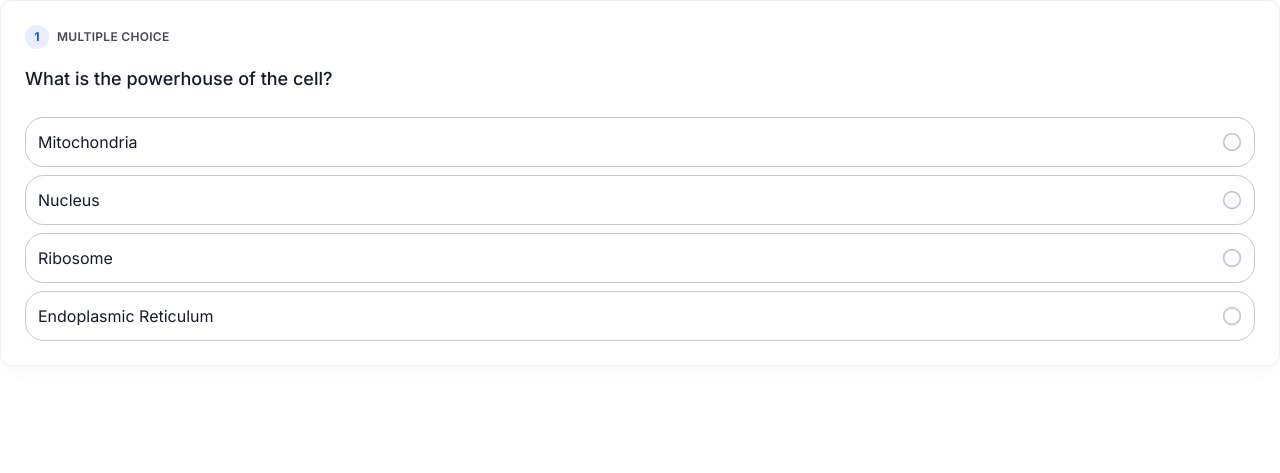
it: QuestionCard Component › evaluates incorrect multiple choice selection and shows correct answer
What coordinates should you click on to do the following:
click the button "Nucleus"
I would click on:
 (69, 200)
Its box is 25,175 -> 1255,225.
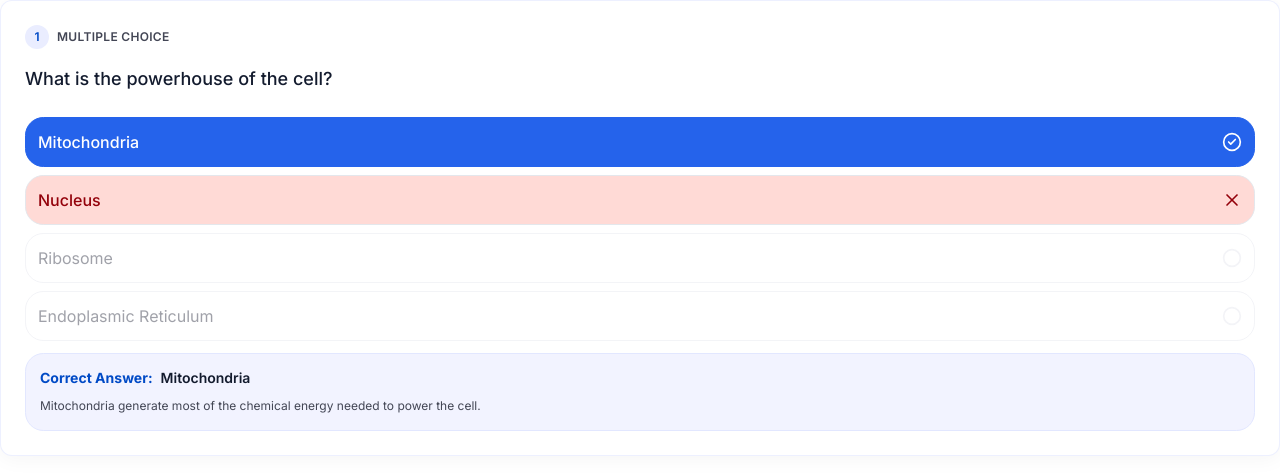
Check: the text "Correct Answer:" is shown, box 40,368 -> 153,388
Check: the text "Mitochondria generate most of the chemical energy needed to power the cell." is shown, box 40,398 -> 481,413
